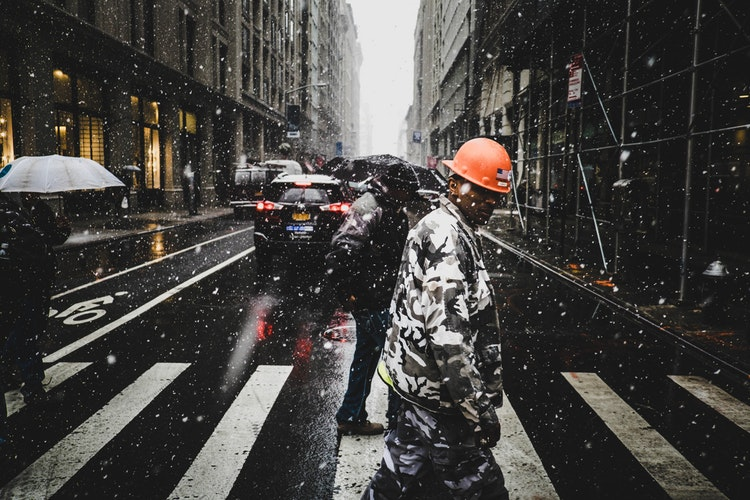helmet: (442, 132, 527, 199)
